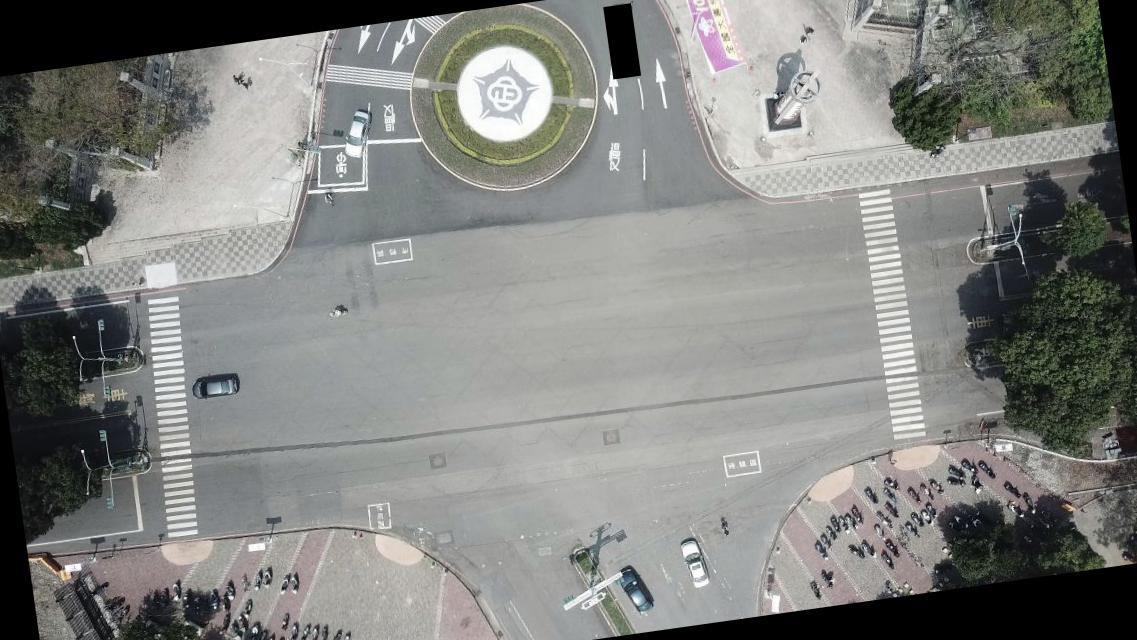vehicle: (615, 564, 657, 618), (337, 108, 376, 162), (678, 536, 712, 590), (190, 374, 241, 402)
